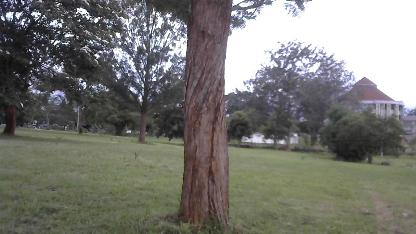tree: (178, 0, 236, 234), (93, 2, 183, 144), (320, 99, 412, 169)
